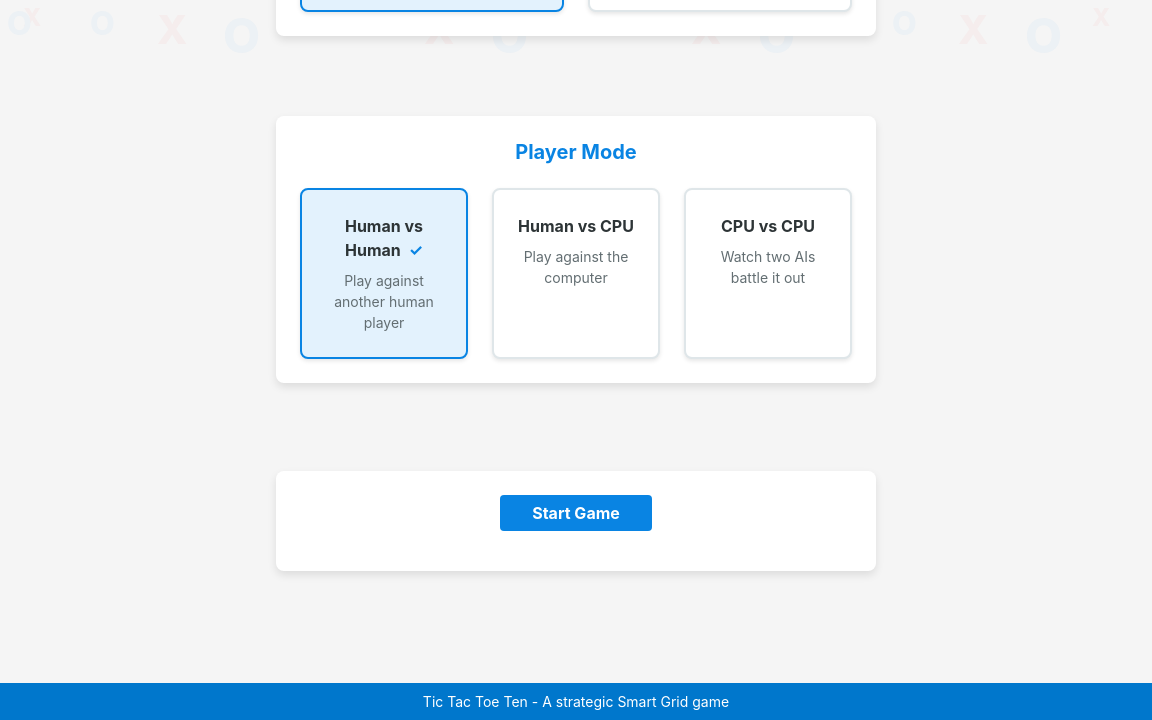
Test: Game Flow Integration › should start a new game
(page scrolled)
# Start the game
What coordinates should you click on to do the following:
click the button "Start Game"
I would click on:
 (576, 513)
Its box is x1=500 y1=495 x2=652 y2=531.
(page scrolled)
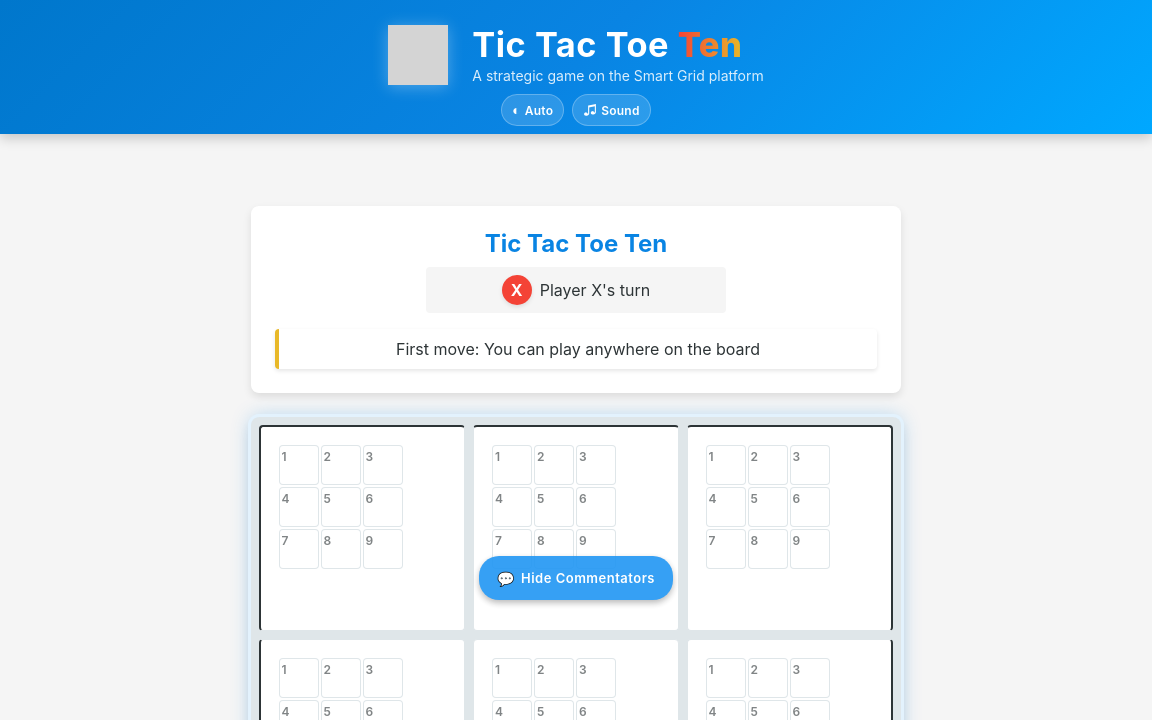
Check: the text "Player X's turn" is shown, box x1=540 y1=278 x2=650 y2=302
